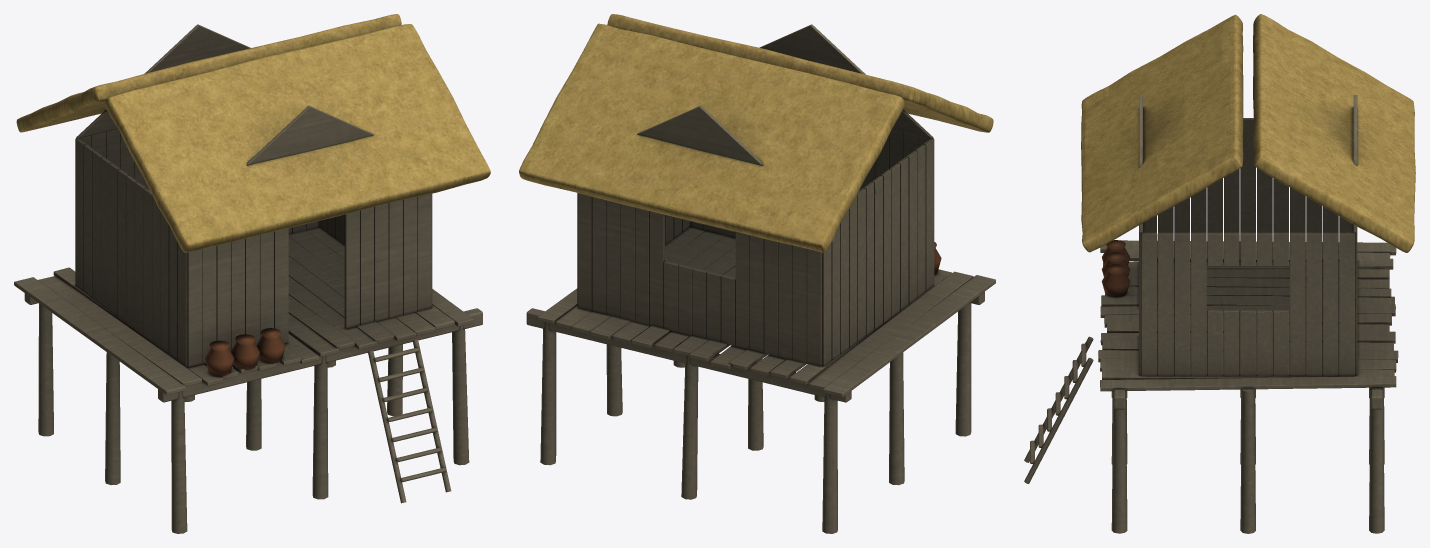
File: brejo_palafita.glb
3 renders of one model, left to right at view 1: azimuth 30°, elevation 25°; view 2: azimuth 150°, elevation 25°; view 3: azimuth 270°, elevation 25°, orthographic. The views are drawn at different scales.
Parts seen in each view (by area): view 1: brejo_palafita_tronco; view 2: brejo_palafita_tronco; view 3: brejo_palafita_tronco.
Part boxes in pixels (left/top/right/bottom): brejo_palafita_tronco: left=14, top=14, right=490, bottom=533; brejo_palafita_tronco: left=519, top=14, right=995, bottom=533; brejo_palafita_tronco: left=1024, top=14, right=1415, bottom=533.
Size of the model in its own units: 5.06 by 5.87 by 5.48.
Materials: 1 (1 with a texture image).
